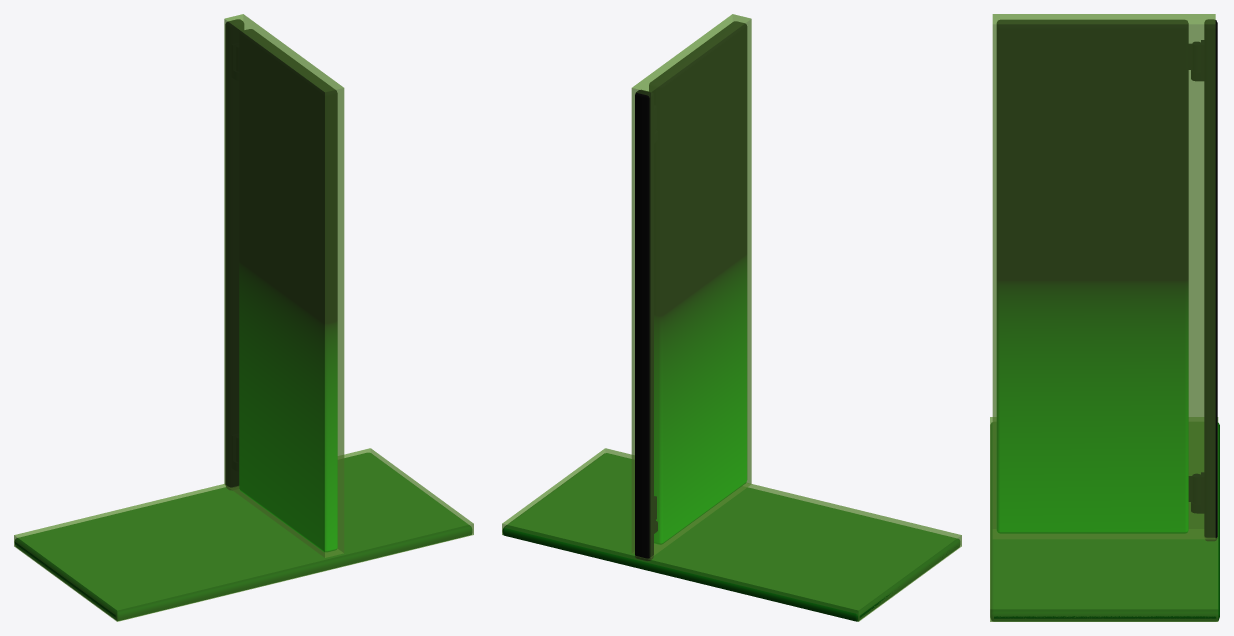
Rendered from M_md_Door_50cm_02.fbx.
The picture shows the model from 3 angles, left to right: view 1: azimuth 30°, elevation 25°; view 2: azimuth 150°, elevation 25°; view 3: azimuth 270°, elevation 25°; orthographic projection. The views are drawn at different scales.
Visible parts, largest first — view 1: M_md_Door_50cm_02_LOD0, M_md_Door_50cm_02_col_02, M_md_Door_50cm_02_col_01; view 2: M_md_Door_50cm_02_LOD0, M_md_Door_50cm_02_col_02, M_md_Door_50cm_02_col_01; view 3: M_md_Door_50cm_02_LOD0, M_md_Door_50cm_02_col_02, M_md_Door_50cm_02_col_01.
Part boxes in pixels (bbox=[...]): M_md_Door_50cm_02_LOD0: bbox=[14, 19, 472, 620]; M_md_Door_50cm_02_col_02: bbox=[224, 14, 344, 557]; M_md_Door_50cm_02_col_01: bbox=[14, 448, 473, 621]; M_md_Door_50cm_02_LOD0: bbox=[502, 21, 960, 621]; M_md_Door_50cm_02_col_02: bbox=[631, 14, 751, 557]; M_md_Door_50cm_02_col_01: bbox=[502, 448, 961, 621]; M_md_Door_50cm_02_LOD0: bbox=[990, 19, 1219, 621]; M_md_Door_50cm_02_col_02: bbox=[992, 14, 1215, 539]; M_md_Door_50cm_02_col_01: bbox=[990, 417, 1218, 621].
Size of what is drawn, in the model's own units: 100 by 128 by 50.44.
